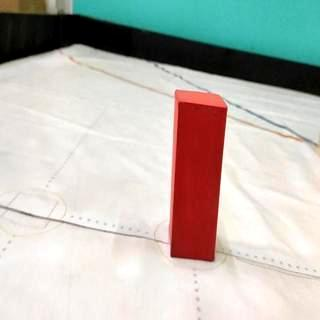redbox: (170, 88, 228, 260)
